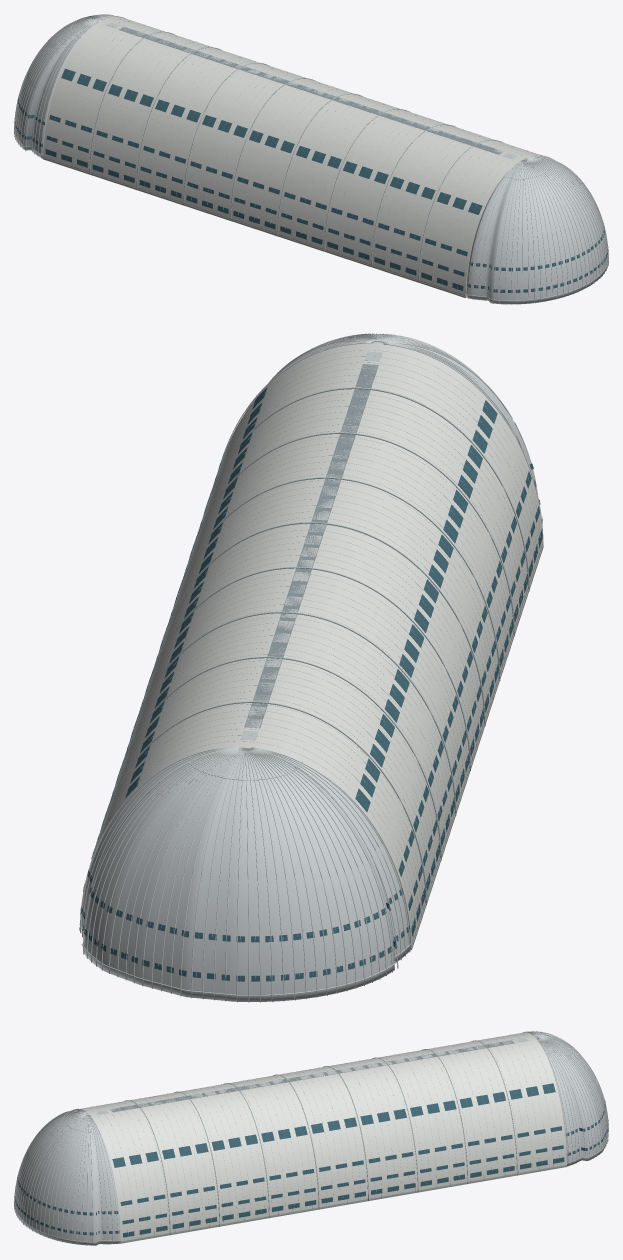
Rendered from hangar-one.glb.
The picture shows the model from 3 angles, top to bottom: view 1: azimuth 30°, elevation 25°; view 2: azimuth 150°, elevation 25°; view 3: azimuth 270°, elevation 25°; orthographic projection. The views are drawn at different scales.
Visible parts, largest first — view 1: hangar-one; view 2: hangar-one; view 3: hangar-one.
Part boxes in pixels (bbox=[...]): hangar-one: bbox=[14, 14, 608, 304]; hangar-one: bbox=[79, 333, 543, 1002]; hangar-one: bbox=[14, 1031, 608, 1245].
Size of the model in its own units: 193 by 59.33 by 330.
